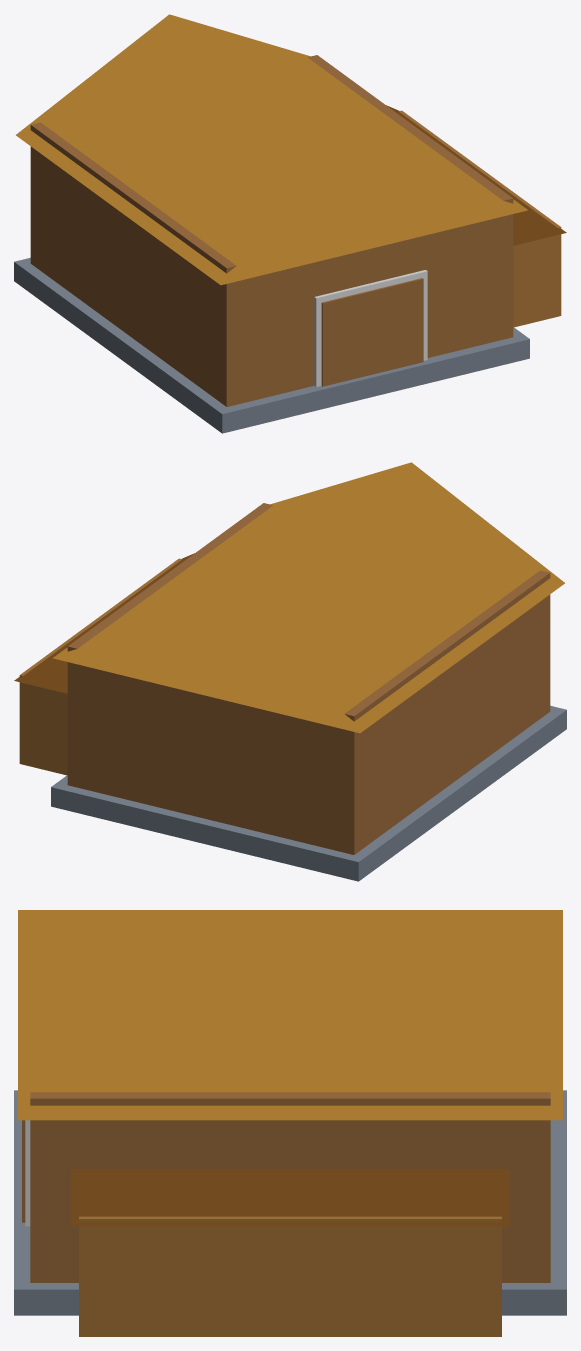
Rendered from hart-barn.glb.
3 renders of one model, top to bottom at view 1: azimuth 30°, elevation 25°; view 2: azimuth 150°, elevation 25°; view 3: azimuth 270°, elevation 25°, orthographic. The views are drawn at different scales.
Visible parts, largest first — view 1: Root; view 2: Root; view 3: Root.
Boxes of the visible parts, x1,y1,x2,y2 form: Root: [14, 14, 566, 433]; Root: [14, 462, 566, 881]; Root: [14, 910, 566, 1336].
Bounding box in the file's own units: 13.8 × 8.3 × 13.6.
